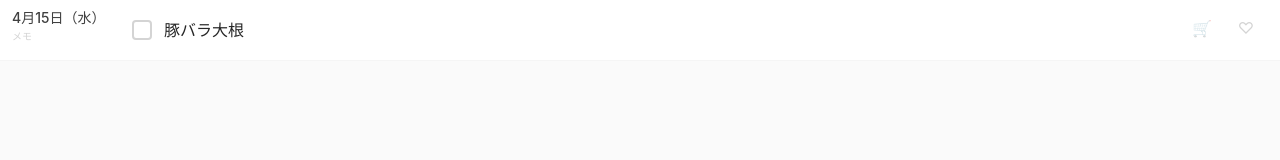
Scenario: DayRow › 行削除の確認ダイアログ（長押し → 揺れ → ✕ → ダイアログ） › ✕ は通常時は表示されず、長押しで現れる
Press the mouse on the button "豚バラ大根" at (204, 30), box x1=164 y1=20 x2=244 y2=40
Wait 500 ms
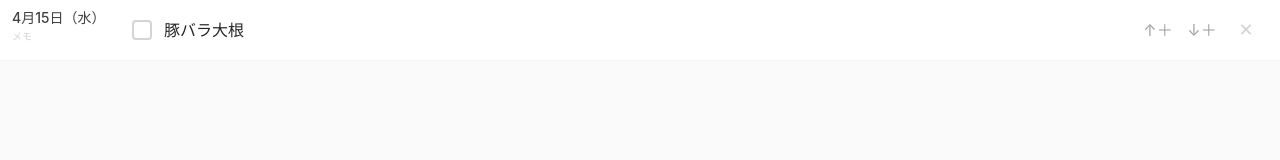
Now the button named "豚バラ大根 を削除" is shown, box x1=1224 y1=8 x2=1268 y2=52
